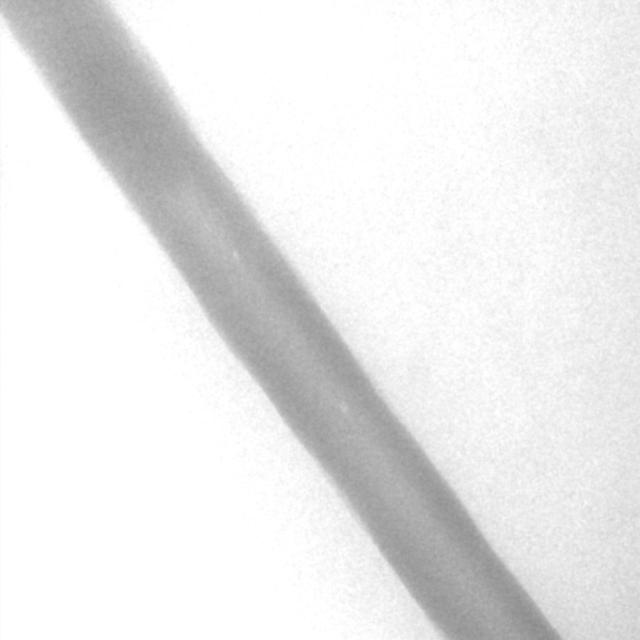air hole: (229, 247, 242, 263), (337, 400, 349, 416)
